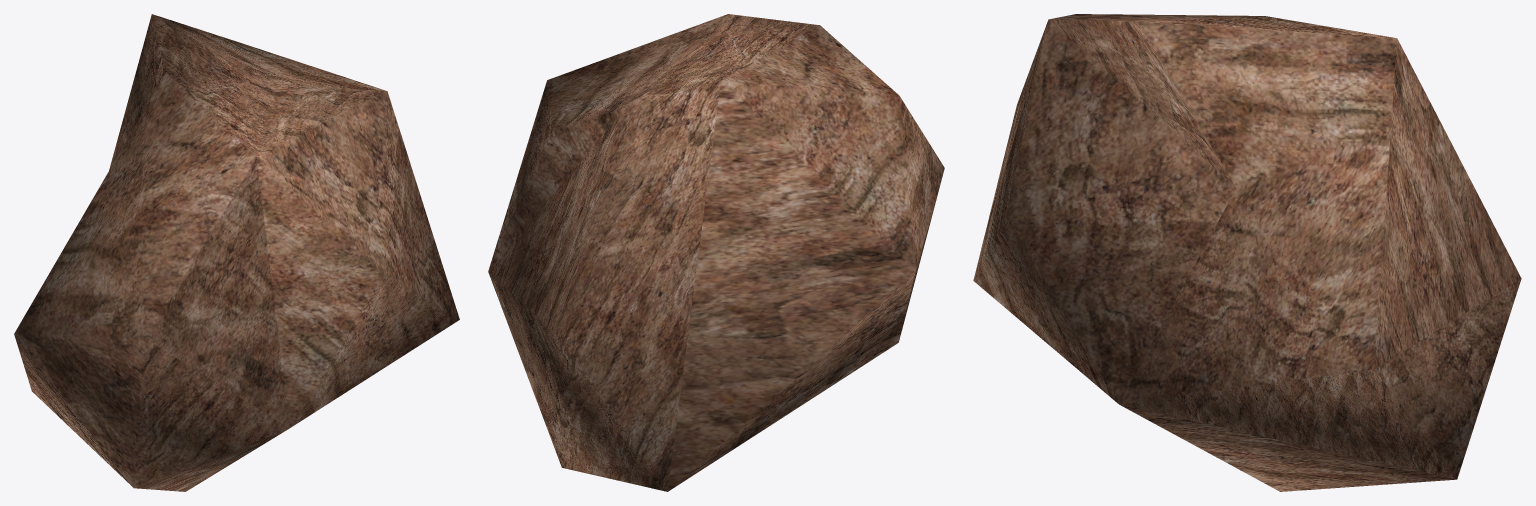
Rendered from rock_dath_desertboulder_a1_l3.fbx.
The picture shows the model from 3 angles, left to right: view 1: azimuth 30°, elevation 25°; view 2: azimuth 150°, elevation 25°; view 3: azimuth 270°, elevation 25°; orthographic projection. The views are drawn at different scales.
Parts seen in each view (by area): view 1: mesh_node; view 2: mesh_node; view 3: mesh_node.
Part boxes in pixels (x1,y1,x2,y2): mesh_node: (14, 14, 459, 491); mesh_node: (488, 14, 944, 491); mesh_node: (973, 14, 1521, 491).
Size of the model in its own units: 1.48 by 1.55 by 1.6.
